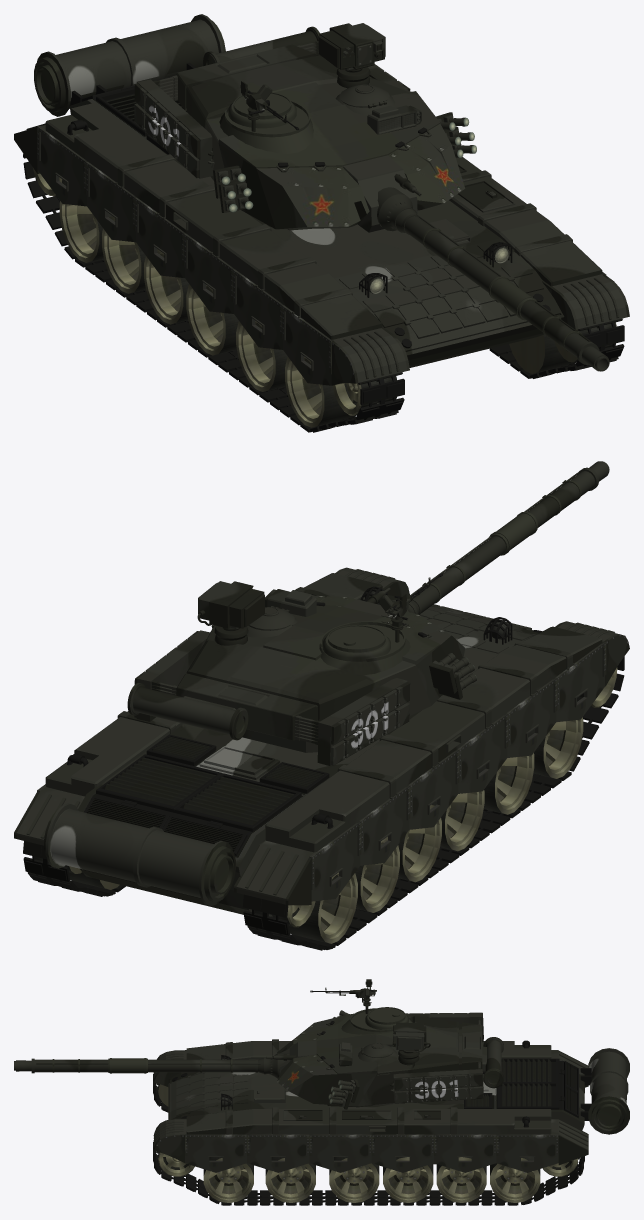
File: jiuliushitank-old.gltf
3 views of the same model, one above another, from view 1: azimuth 30°, elevation 25°; view 2: azimuth 150°, elevation 25°; view 3: azimuth 270°, elevation 25° (orthographic). The views are drawn at different scales.
Visible parts, largest first — view 1: cheshen, paotai, paoguan, lvdai, luntaiB, shebeiA, luntaiD, luntaiC, luntaiG, luntaiE, luntaiF, luntaiA (+1 smaller); view 2: cheshen, paotai, lvdai, paoguan, luntaiG, shebeiA, luntaiC, luntaiB, luntaiD, luntaiE, luntaiF, luntaiH; view 3: cheshen, paotai, paoguan, lvdai, luntaiD, luntaiC, luntaiB, luntaiG, luntaiE, luntaiF, shebeiA, luntaiA (+2 smaller).
Boxes of the visible parts, x1=… form: cheshen: x1=14, y1=14, x2=629, y2=385; paotai: x1=134, y1=26, x2=476, y2=230; paoguan: x1=342, y1=155, x2=609, y2=371; lvdai: x1=23, y1=154, x2=624, y2=432; luntaiB: x1=285, y1=334, x2=576, y2=427; shebeiA: x1=318, y1=23, x2=385, y2=70; luntaiD: x1=186, y1=284, x2=238, y2=355; luntaiC: x1=236, y1=321, x2=287, y2=391; luntaiG: x1=59, y1=201, x2=112, y2=262; luntaiE: x1=144, y1=249, x2=189, y2=324; luntaiF: x1=102, y1=216, x2=145, y2=293; luntaiA: x1=332, y1=322, x2=616, y2=415; cheshen: x1=14, y1=567, x2=629, y2=914; paotai: x1=127, y1=589, x2=476, y2=765; lvdai: x1=23, y1=656, x2=624, y2=950; paoguan: x1=343, y1=461, x2=609, y2=618; luntaiG: x1=69, y1=872, x2=357, y2=943; shebeiA: x1=197, y1=581, x2=264, y2=629; luntaiC: x1=479, y1=753, x2=534, y2=814; luntaiB: x1=528, y1=717, x2=583, y2=778; luntaiD: x1=431, y1=790, x2=484, y2=851; luntaiE: x1=398, y1=804, x2=441, y2=882; luntaiF: x1=355, y1=836, x2=399, y2=912; luntaiH: x1=35, y1=856, x2=315, y2=927; cheshen: x1=153, y1=1039, x2=629, y2=1172; paotai: x1=277, y1=1007, x2=503, y2=1109; paoguan: x1=14, y1=1040, x2=316, y2=1078; lvdai: x1=153, y1=1073, x2=584, y2=1205; luntaiD: x1=329, y1=1157, x2=379, y2=1202; luntaiC: x1=265, y1=1157, x2=315, y2=1202; luntaiB: x1=203, y1=1157, x2=253, y2=1202; luntaiG: x1=490, y1=1157, x2=540, y2=1202; luntaiE: x1=383, y1=1157, x2=433, y2=1202; luntaiF: x1=436, y1=1157, x2=486, y2=1202; shebeiA: x1=392, y1=1022, x2=430, y2=1052; luntaiA: x1=156, y1=1083, x2=194, y2=1176.
Bounding box in the file's own units: 92.2 × 80.82 × 280.
1 material, 1 textured.
